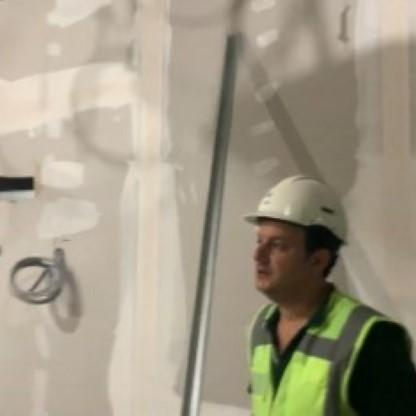helmet: (228, 191, 341, 303)
